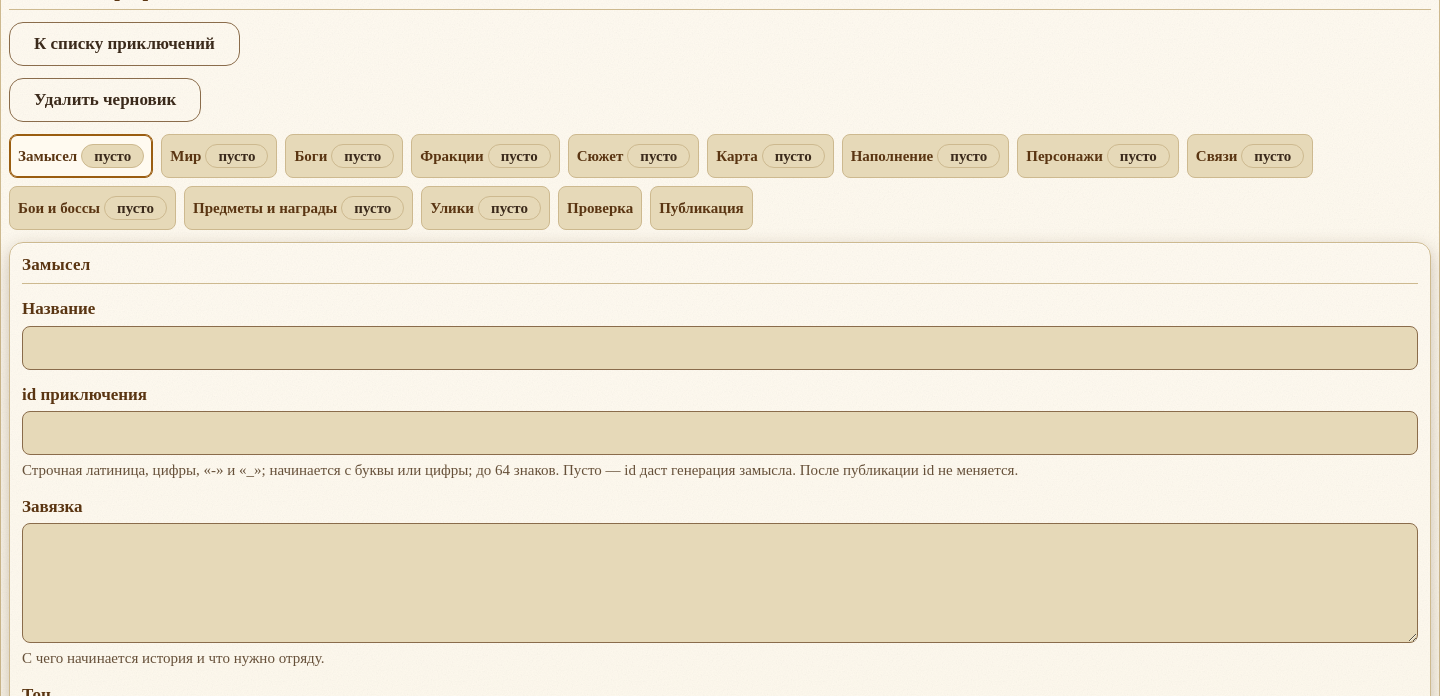
Scenario: шаг «Связи» › фильтр переживает «Сохранить раздел»
Click the button "Связи пусто" at (1250, 156), box [1187, 134, 1313, 178]
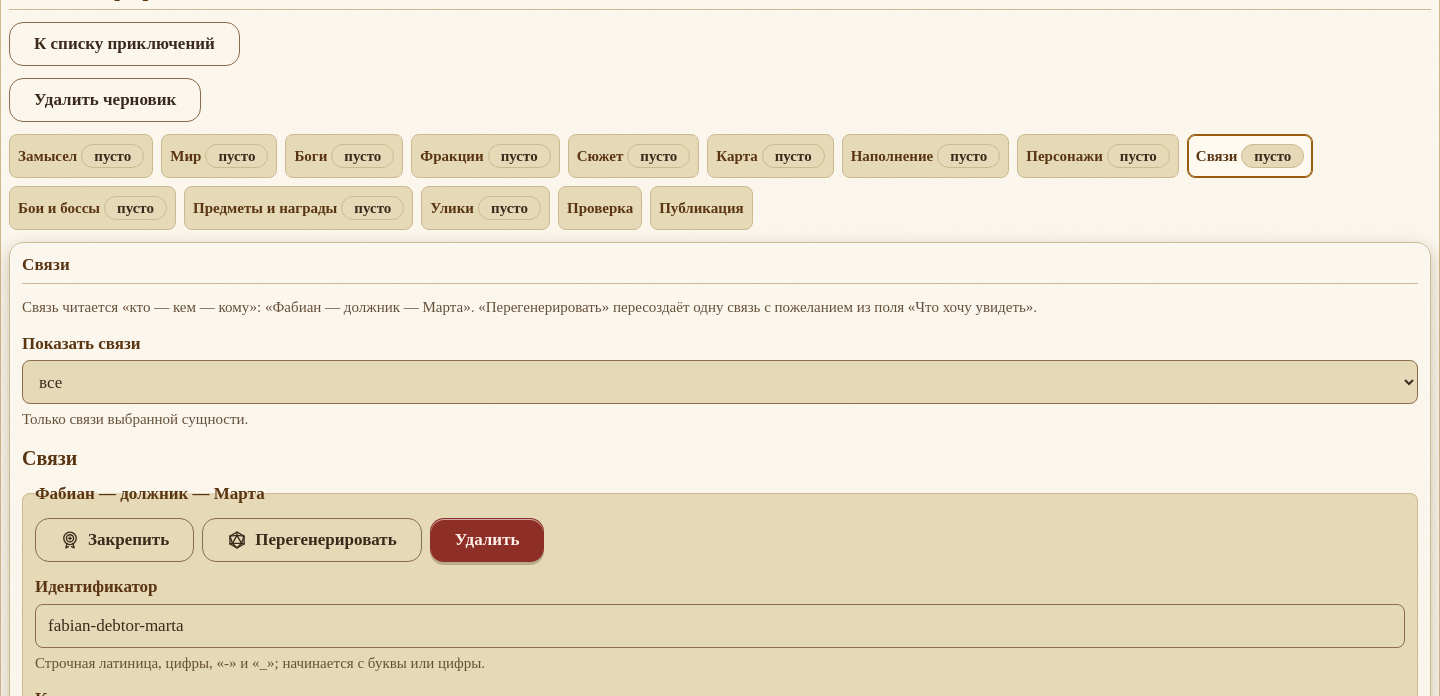
Select "Марта (персонаж)" in the dropdown labelled "Показать связи" at (720, 382), box [22, 360, 1418, 404]
(page scrolled)
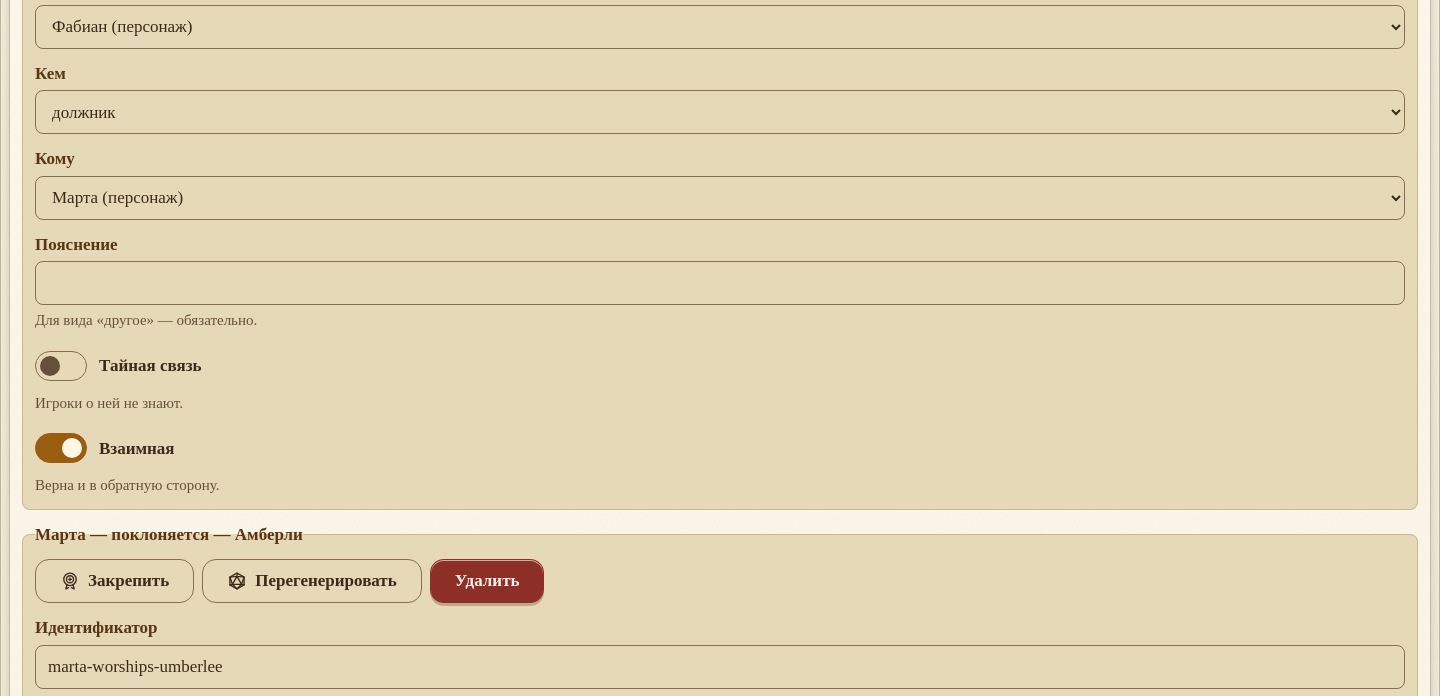
Click the switch labelled "Тайная связь" at (61, 366), box [35, 351, 87, 381]
(page scrolled)
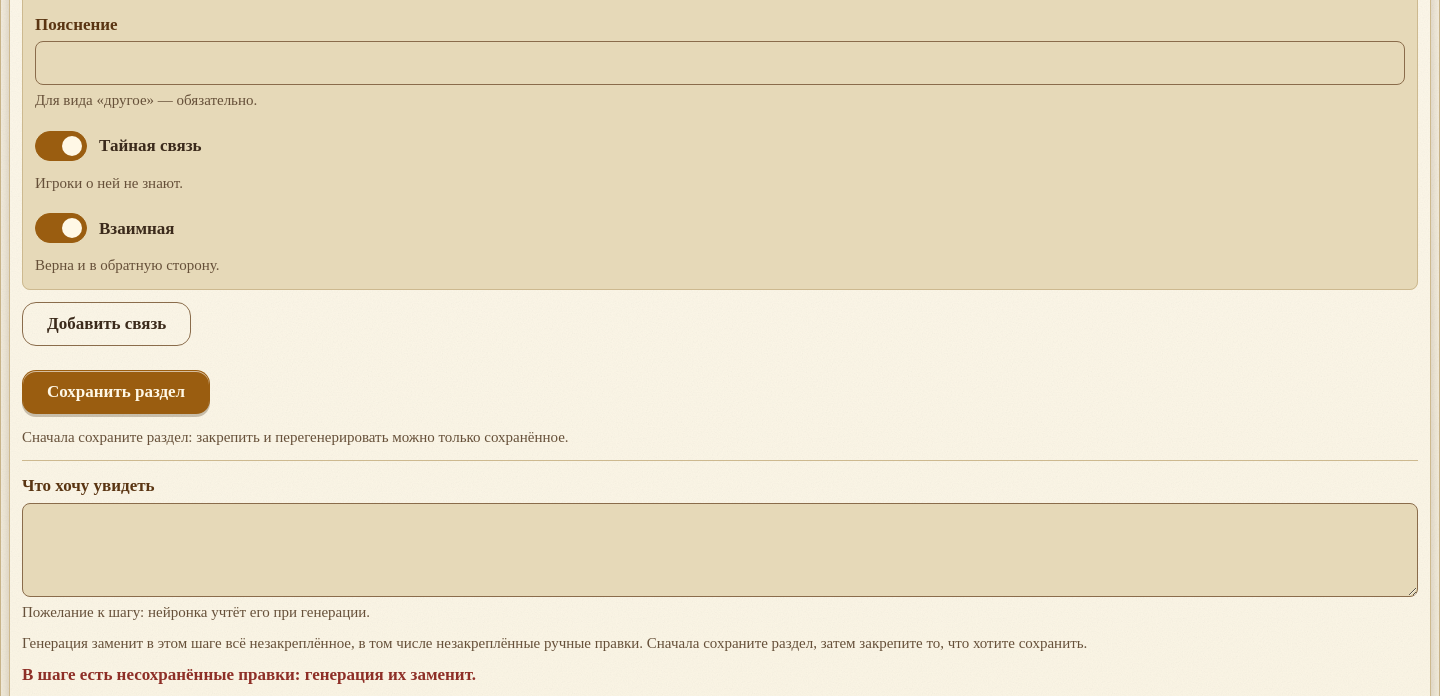
Click the button "Сохранить раздел" at (116, 392), box [22, 370, 210, 414]
(page scrolled)
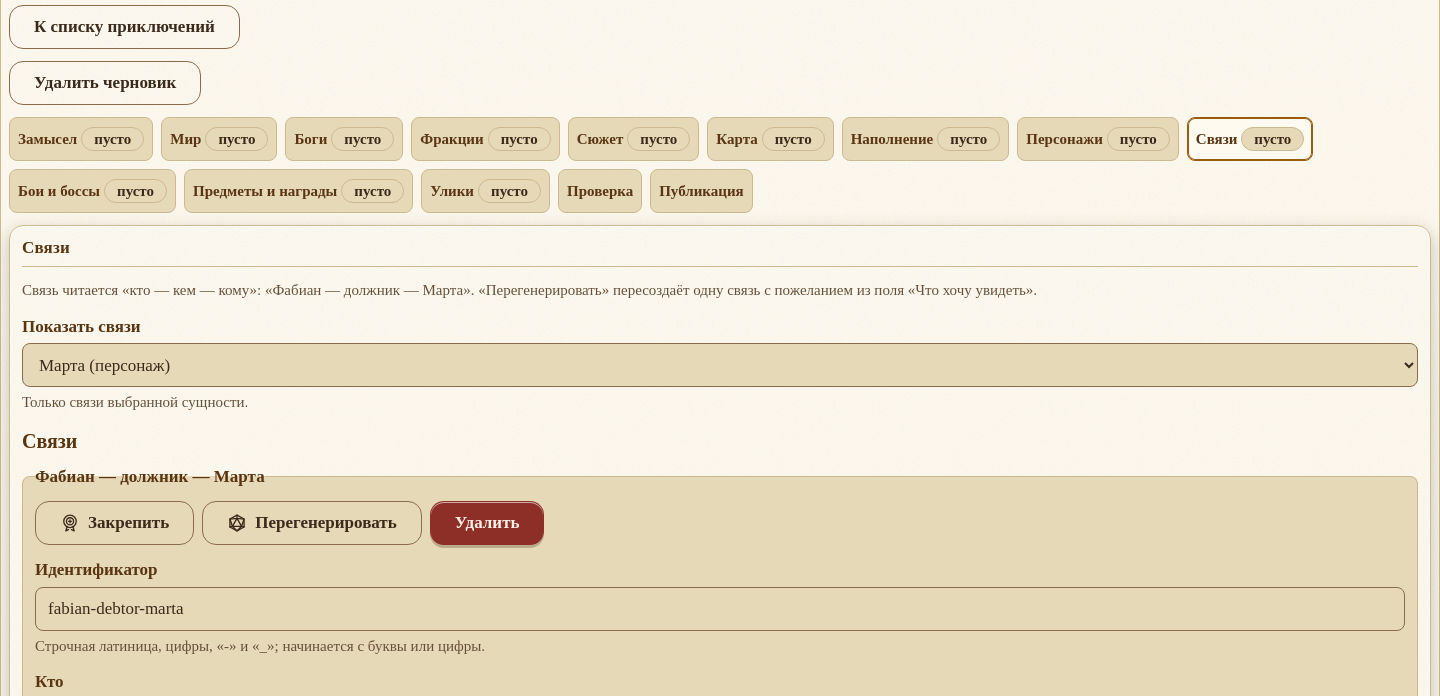
Check: the button with aria-label "Закрепить: Фабиан — должник — Марта" is enabled, box [35, 501, 194, 545]
Check: the dropdown labelled "Показать связи" shows "Марта (персонаж)", box [22, 343, 1418, 387]
